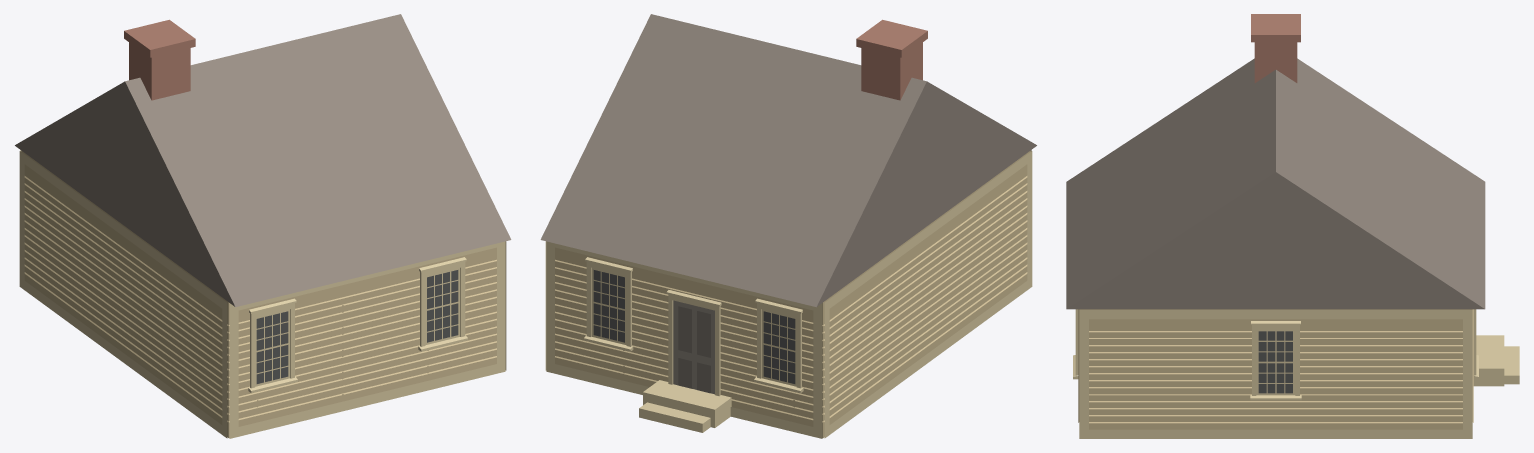
The model's file is recon_1835_blk_school_section_tier_118_d4_03__inferred_1835.glb.
3 renders of one model, left to right at view 1: azimuth 30°, elevation 25°; view 2: azimuth 150°, elevation 25°; view 3: azimuth 270°, elevation 25°, orthographic. The views are drawn at different scales.
Parts seen in each view (by area): view 1: recon_1835_blk_school_section_tier_118_d4_03__inferred_1835; view 2: recon_1835_blk_school_section_tier_118_d4_03__inferred_1835; view 3: recon_1835_blk_school_section_tier_118_d4_03__inferred_1835.
Boxes of the visible parts, x1,y1,x2,y2 form: recon_1835_blk_school_section_tier_118_d4_03__inferred_1835: (15, 14, 511, 438); recon_1835_blk_school_section_tier_118_d4_03__inferred_1835: (540, 14, 1036, 438); recon_1835_blk_school_section_tier_118_d4_03__inferred_1835: (1066, 14, 1519, 438).
Bounding box in the file's own units: 6.09 × 6.56 × 8.9.
